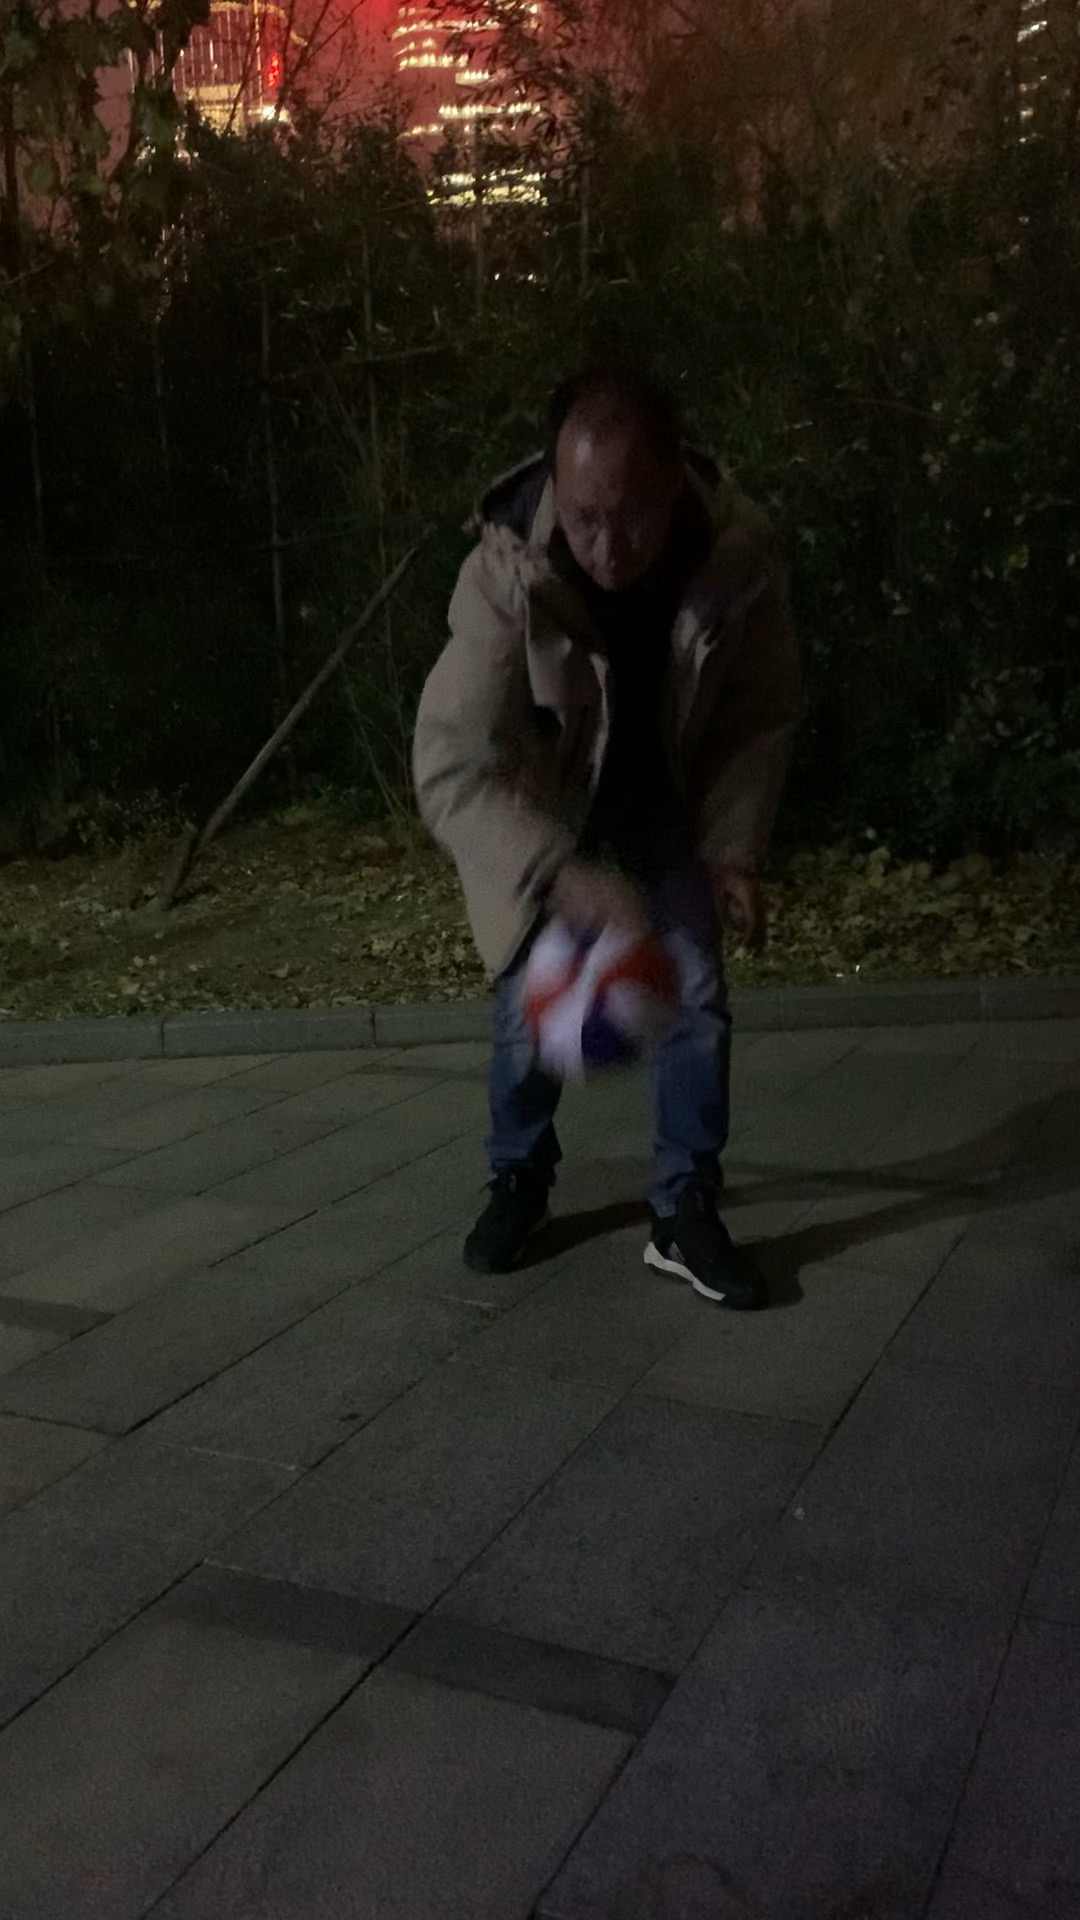ball: (527, 914, 684, 1077)
